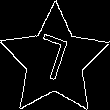L_S: (33, 31, 77, 90)
